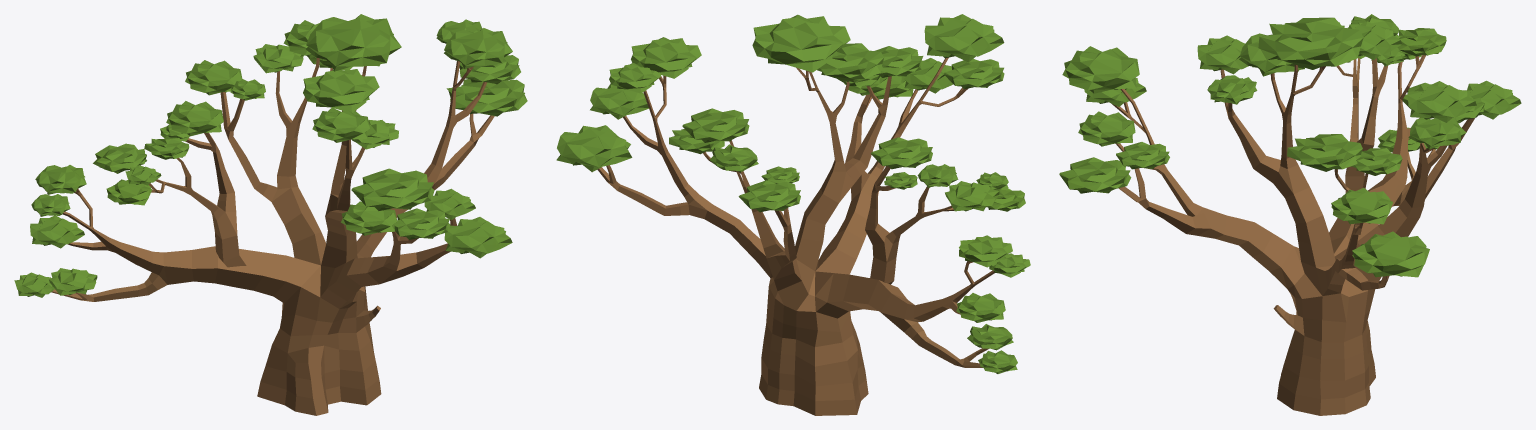
The model's file is tree B.fbx.
3 views of the same model, side by side, from view 1: azimuth 30°, elevation 25°; view 2: azimuth 150°, elevation 25°; view 3: azimuth 270°, elevation 25° (orthographic). The views are drawn at different scales.
Parts seen in each view (by area): view 1: Tree.B; view 2: Tree.B; view 3: Tree.B.
Boxes of the visible parts, x1,y1,x2,y2 form: Tree.B: (14,14,527,415); Tree.B: (556,14,1030,415); Tree.B: (1059,14,1521,415).
Bounding box in the file's own units: 2269 × 1639 × 1824.
